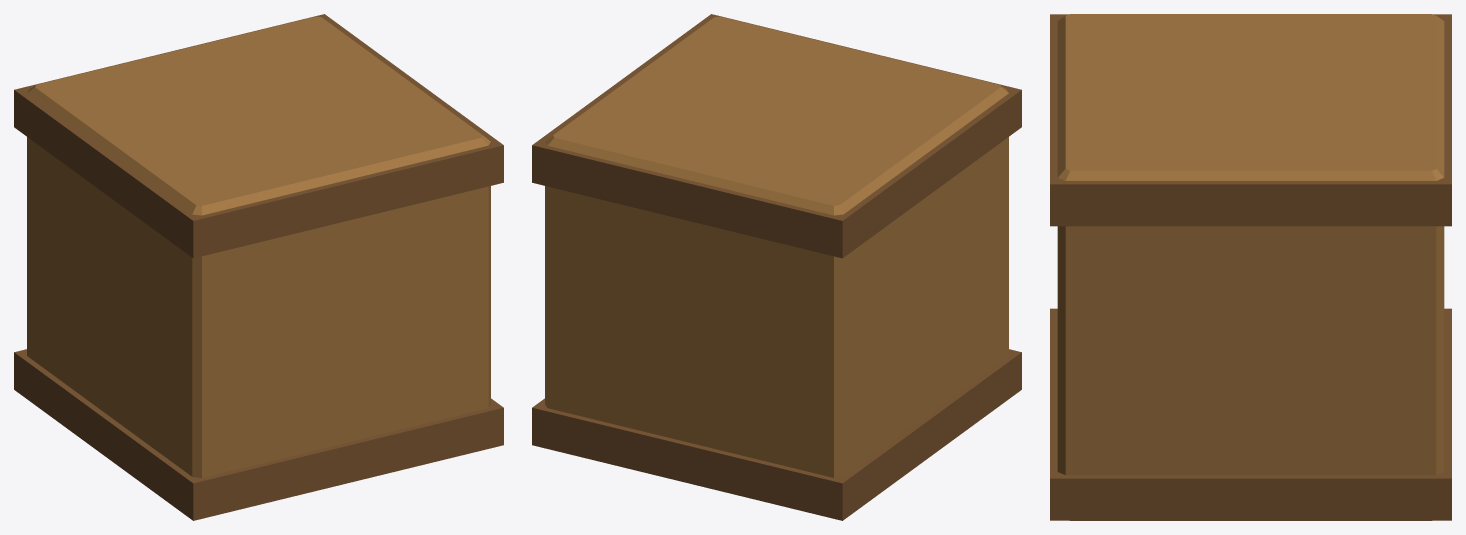
File: crate_small.glb
3 views of the same model, side by side, from view 1: azimuth 30°, elevation 25°; view 2: azimuth 150°, elevation 25°; view 3: azimuth 270°, elevation 25° (orthographic). The views are drawn at different scales.
Parts seen in each view (by area): view 1: crate_small; view 2: crate_small; view 3: crate_small.
Boxes of the visible parts, <box> form: crate_small: <box>14,14,503,520</box>; crate_small: <box>532,14,1021,520</box>; crate_small: <box>1050,14,1451,520</box>.
Size of the model in its own units: 0.52 by 0.5 by 0.52.
